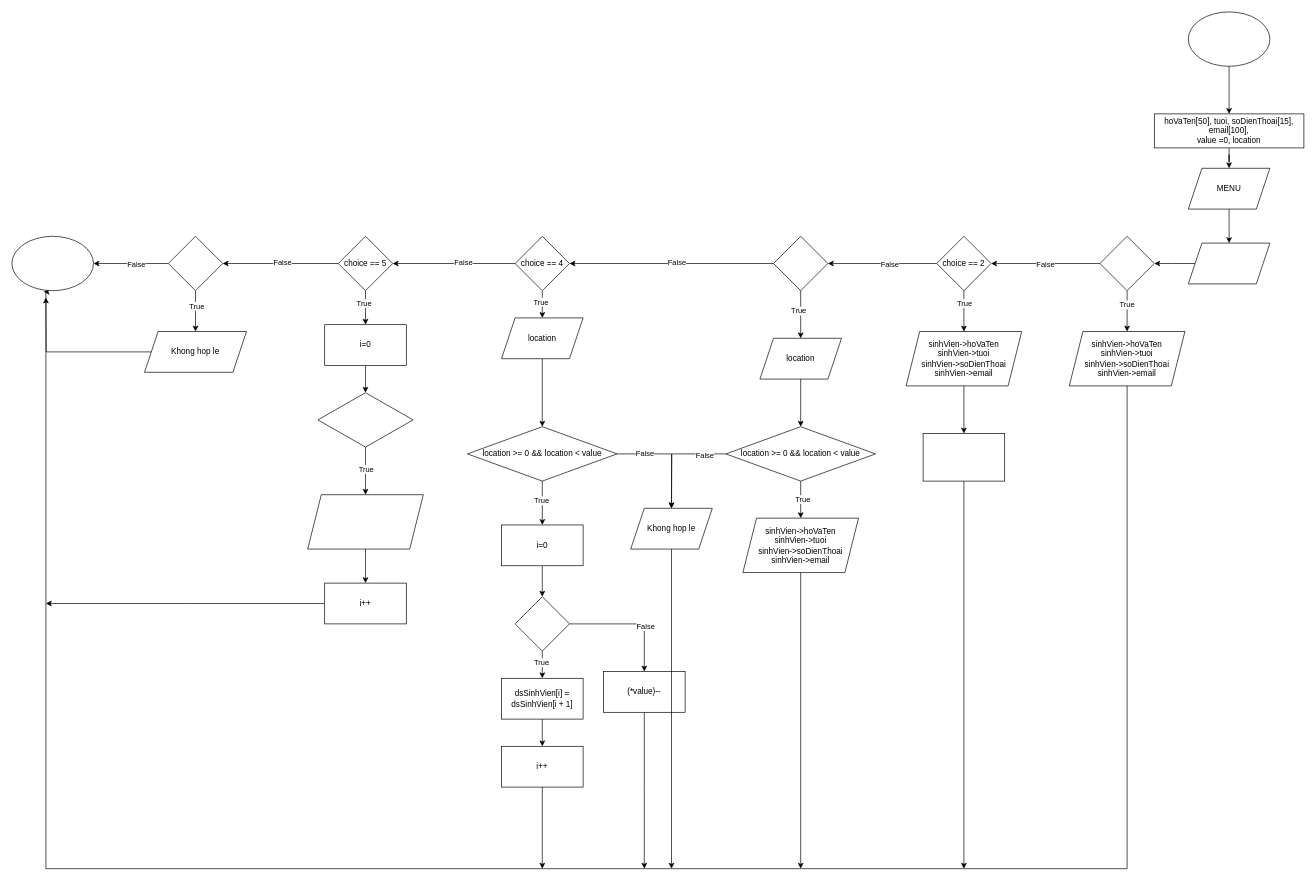
Image size: 1316x886. Some labels were removed from this diagram. The centre of each missing label's shape, as x and y in pixels:
"choice" belongs at point (1229, 263).
"choice == 1" belongs at point (1126, 263).
"choice == 3" belongs at point (800, 263).
"choice == 6" belongs at point (195, 263).
"End" belongs at point (52, 263).
"i<*value-1" belongs at point (542, 623).
"i<value" belongs at point (365, 419).
"sinhVien->name sinhVien->age sinhVien->number sinhVien->email" belongs at point (365, 521).
"Start" belongs at point (1229, 38).
"value++" belongs at point (963, 457).
